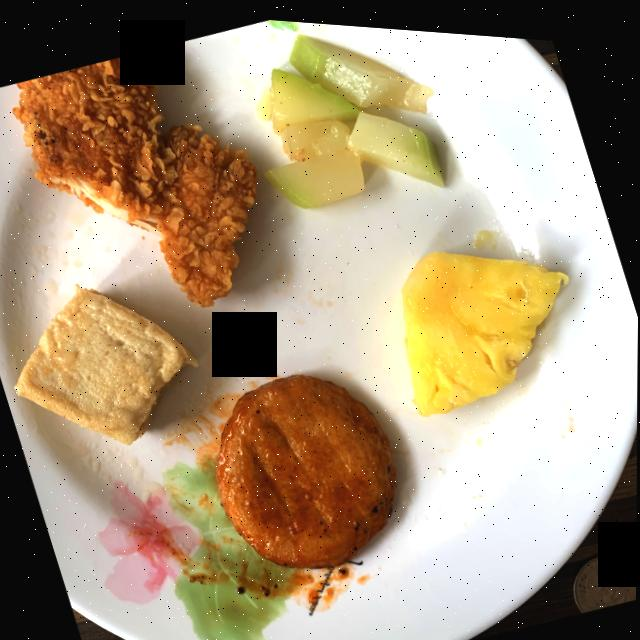coin: (573, 546, 637, 604)
creamy tofu -without sauce-: (15, 286, 198, 443)
fish cake: (216, 370, 396, 564)
fried chicken cutlet: (13, 51, 257, 304)
pineapple: (402, 245, 568, 410)
